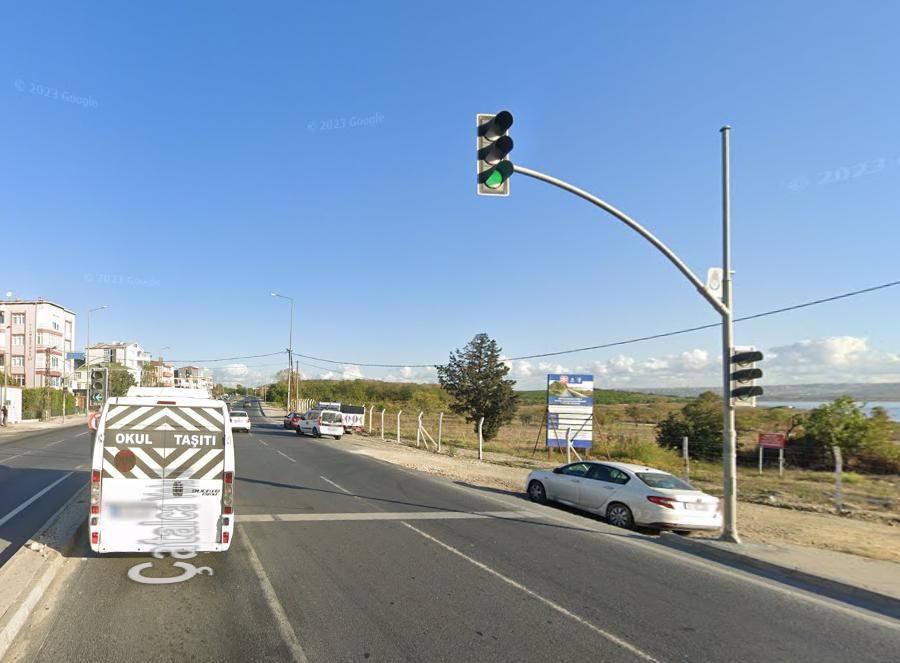greenlight: (479, 109, 510, 193)
